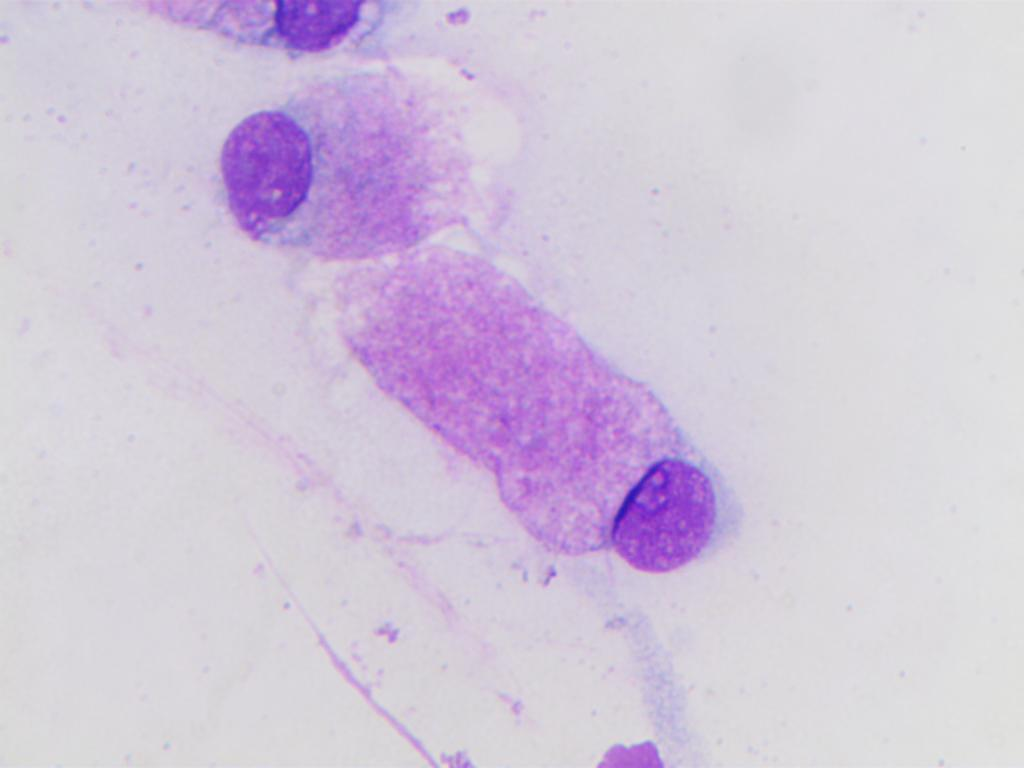goblet_cell: (372, 262, 726, 574), (212, 74, 439, 243), (124, 0, 368, 59)
